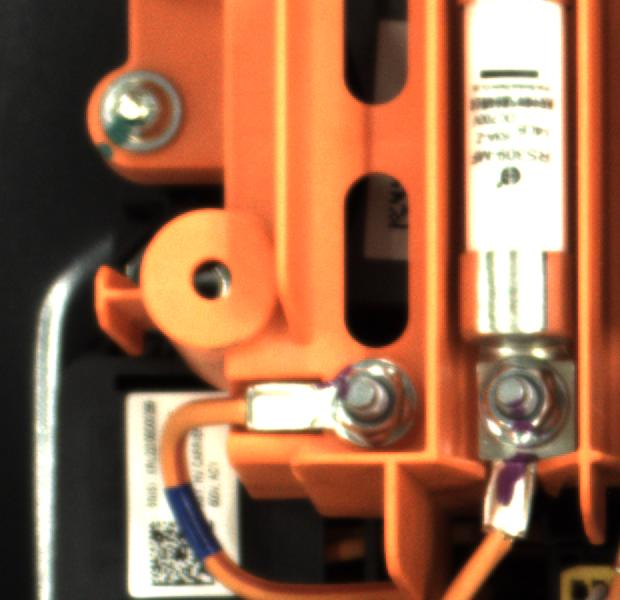screw_m: (88, 71, 206, 155)
screw_s: (470, 350, 575, 453), (323, 353, 416, 443)
